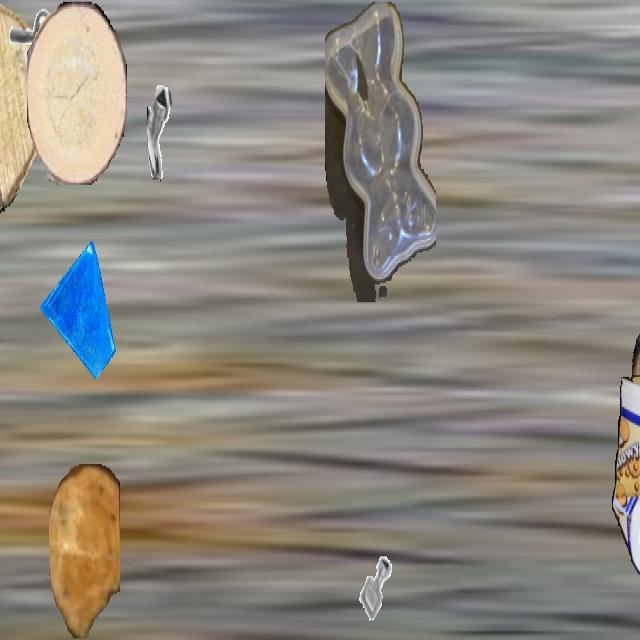glass: (40, 242, 116, 377)
metal: (0, 2, 56, 112), (147, 82, 203, 181), (351, 542, 401, 631)
plastic: (325, 2, 435, 300), (612, 375, 640, 596)
wood: (27, 2, 127, 183), (49, 464, 119, 638), (0, 2, 44, 226), (632, 304, 640, 489)
